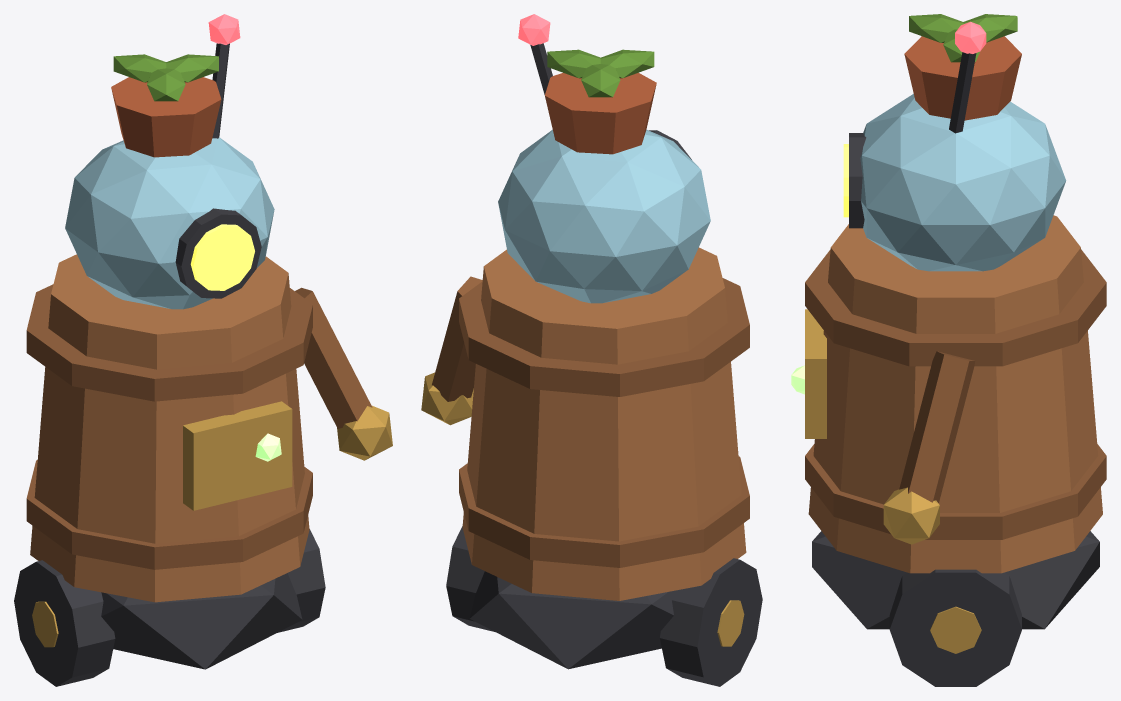
The model's file is robot_body.glb.
The picture shows the model from 3 angles, left to right: view 1: azimuth 30°, elevation 25°; view 2: azimuth 150°, elevation 25°; view 3: azimuth 270°, elevation 25°; orthographic projection. The views are drawn at different scales.
Parts seen in each view (by area): view 1: robot_body; view 2: robot_body; view 3: robot_body.
Part boxes in pixels (<box>): robot_body: <box>14,14,392,686</box>; robot_body: <box>421,14,762,686</box>; robot_body: <box>791,14,1106,686</box>.
Bounding box in the file's own units: 0.5227 × 0.9506 × 0.4287.
